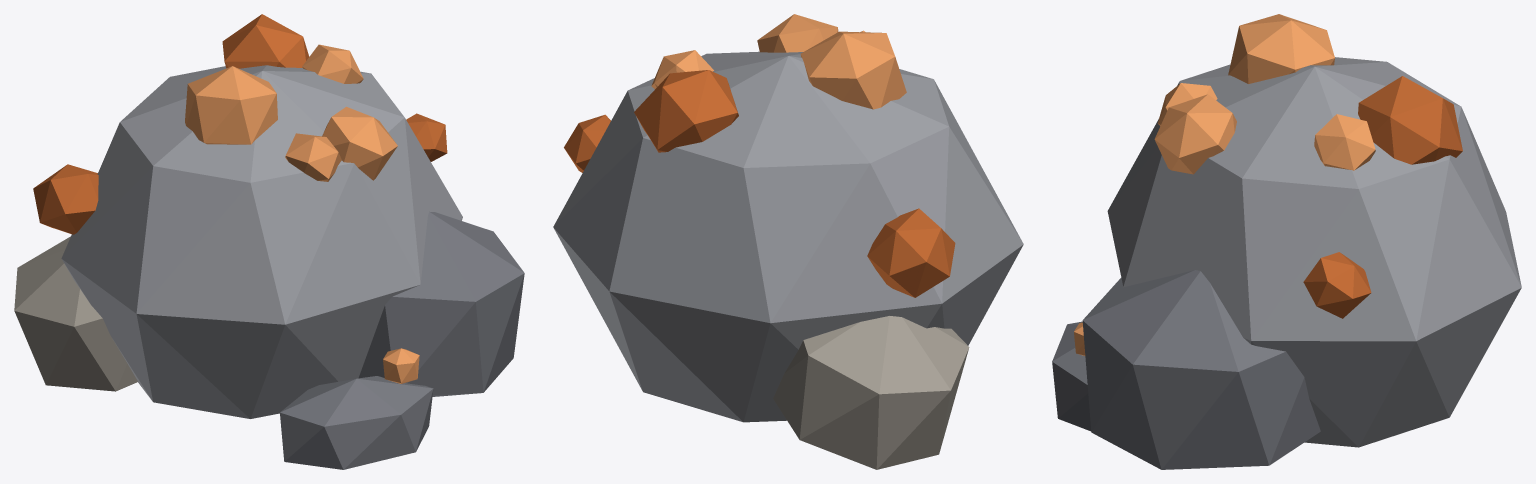
The model's file is rock_copper.glb.
3 renders of one model, left to right at view 1: azimuth 30°, elevation 25°; view 2: azimuth 150°, elevation 25°; view 3: azimuth 270°, elevation 25°, orthographic. The views are drawn at different scales.
Parts seen in each view (by area): view 1: rock_copper; view 2: rock_copper; view 3: rock_copper.
Part boxes in pixels (x1=…): rock_copper: x1=14, y1=14, x2=524, y2=469; rock_copper: x1=553, y1=14, x2=1023, y2=469; rock_copper: x1=1052, y1=14, x2=1521, y2=469.
Bounding box in the file's own units: 1.04 × 0.8968 × 0.9786.
